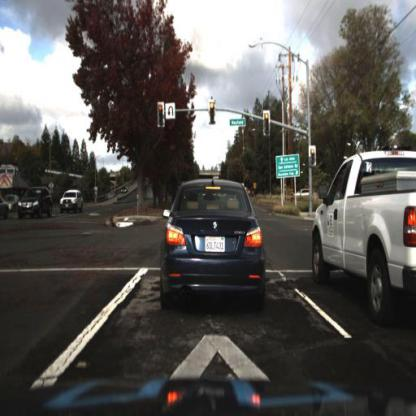car: (310, 152, 416, 315), (160, 178, 268, 310), (20, 187, 55, 219), (60, 189, 85, 213), (294, 186, 317, 202), (1, 196, 12, 223), (119, 185, 131, 195)
trafficLight-Red: (262, 108, 274, 139), (309, 143, 319, 172), (209, 98, 218, 124), (310, 148, 318, 169)
trafficLight-RedLeft: (155, 101, 165, 135), (158, 103, 166, 129)
